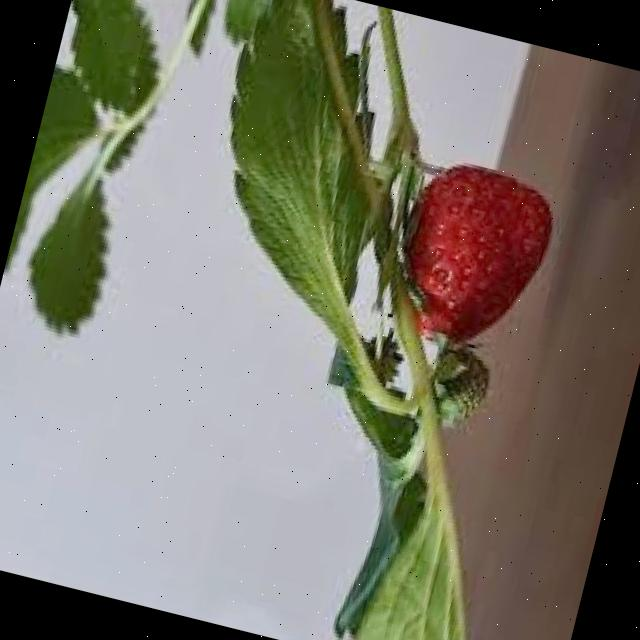strawberry: (376, 150, 564, 367)
